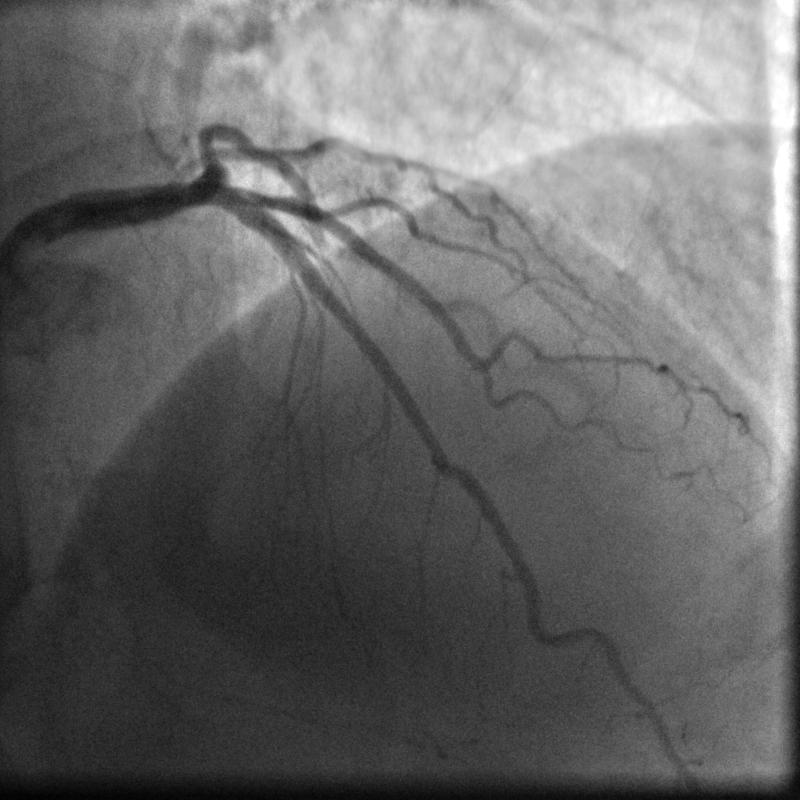Stenosis: (434, 440, 467, 487)
